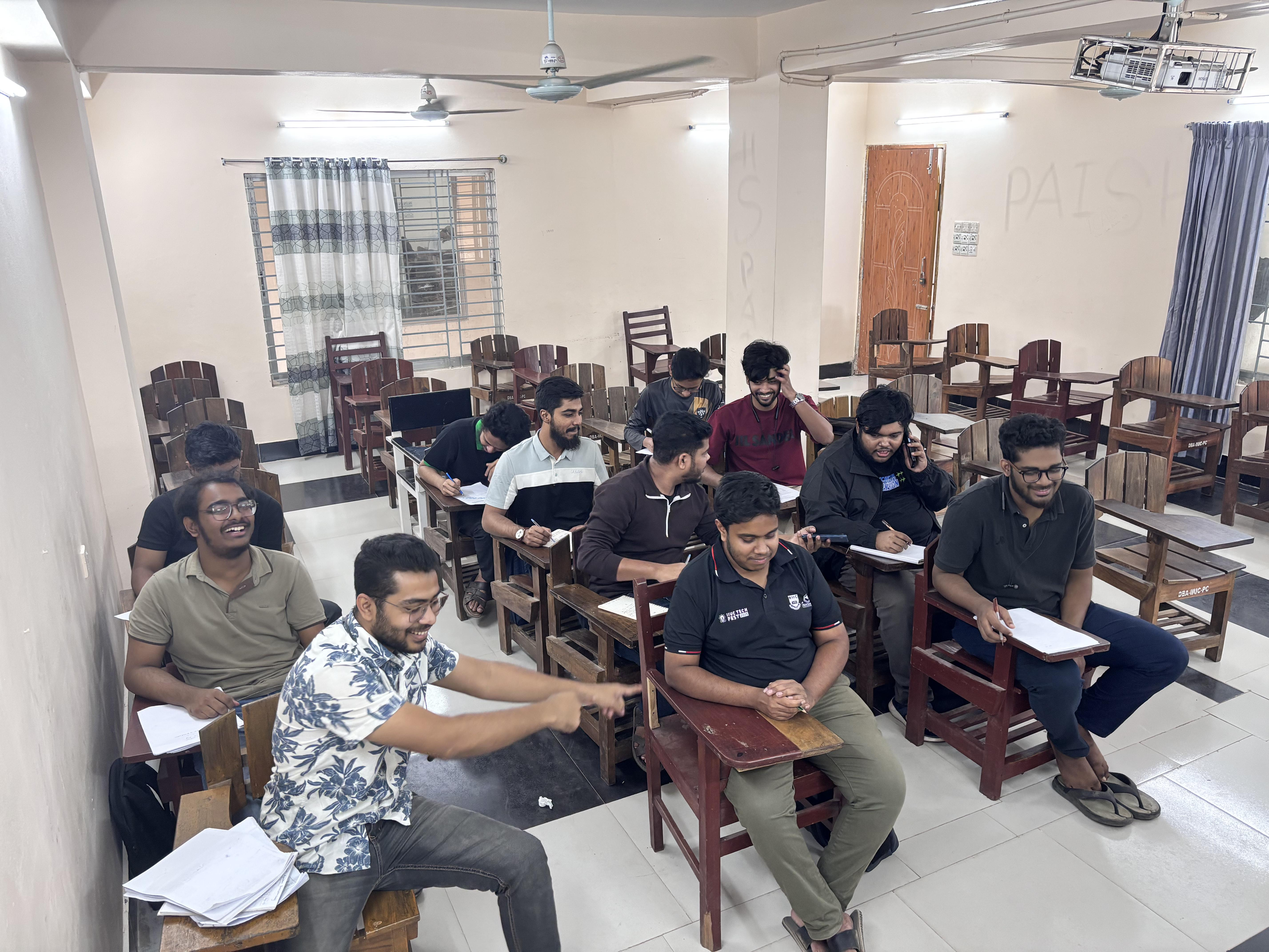no_cheating: (662, 464, 870, 718), (956, 408, 1133, 692), (421, 396, 540, 500), (642, 342, 725, 419)
side_talking: (132, 471, 307, 710), (597, 409, 728, 609), (511, 377, 605, 561), (725, 341, 825, 513)
suspicious_moving: (259, 532, 607, 952)
using_phone: (833, 377, 958, 602)
